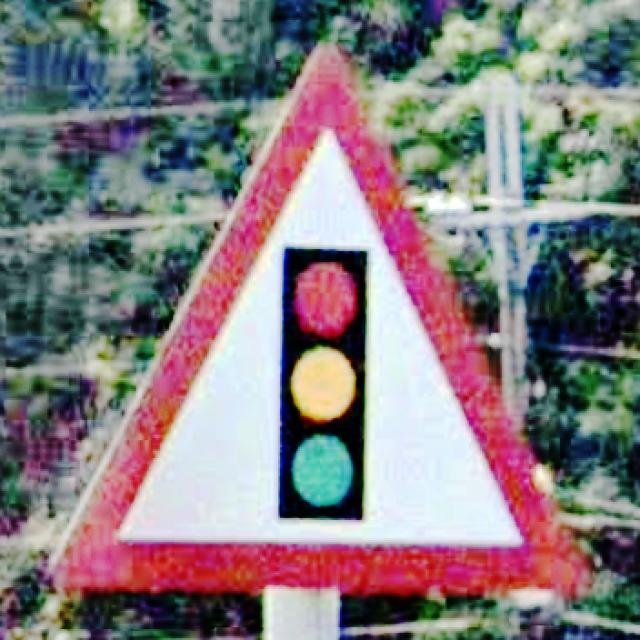signalahead: (55, 56, 586, 592)
